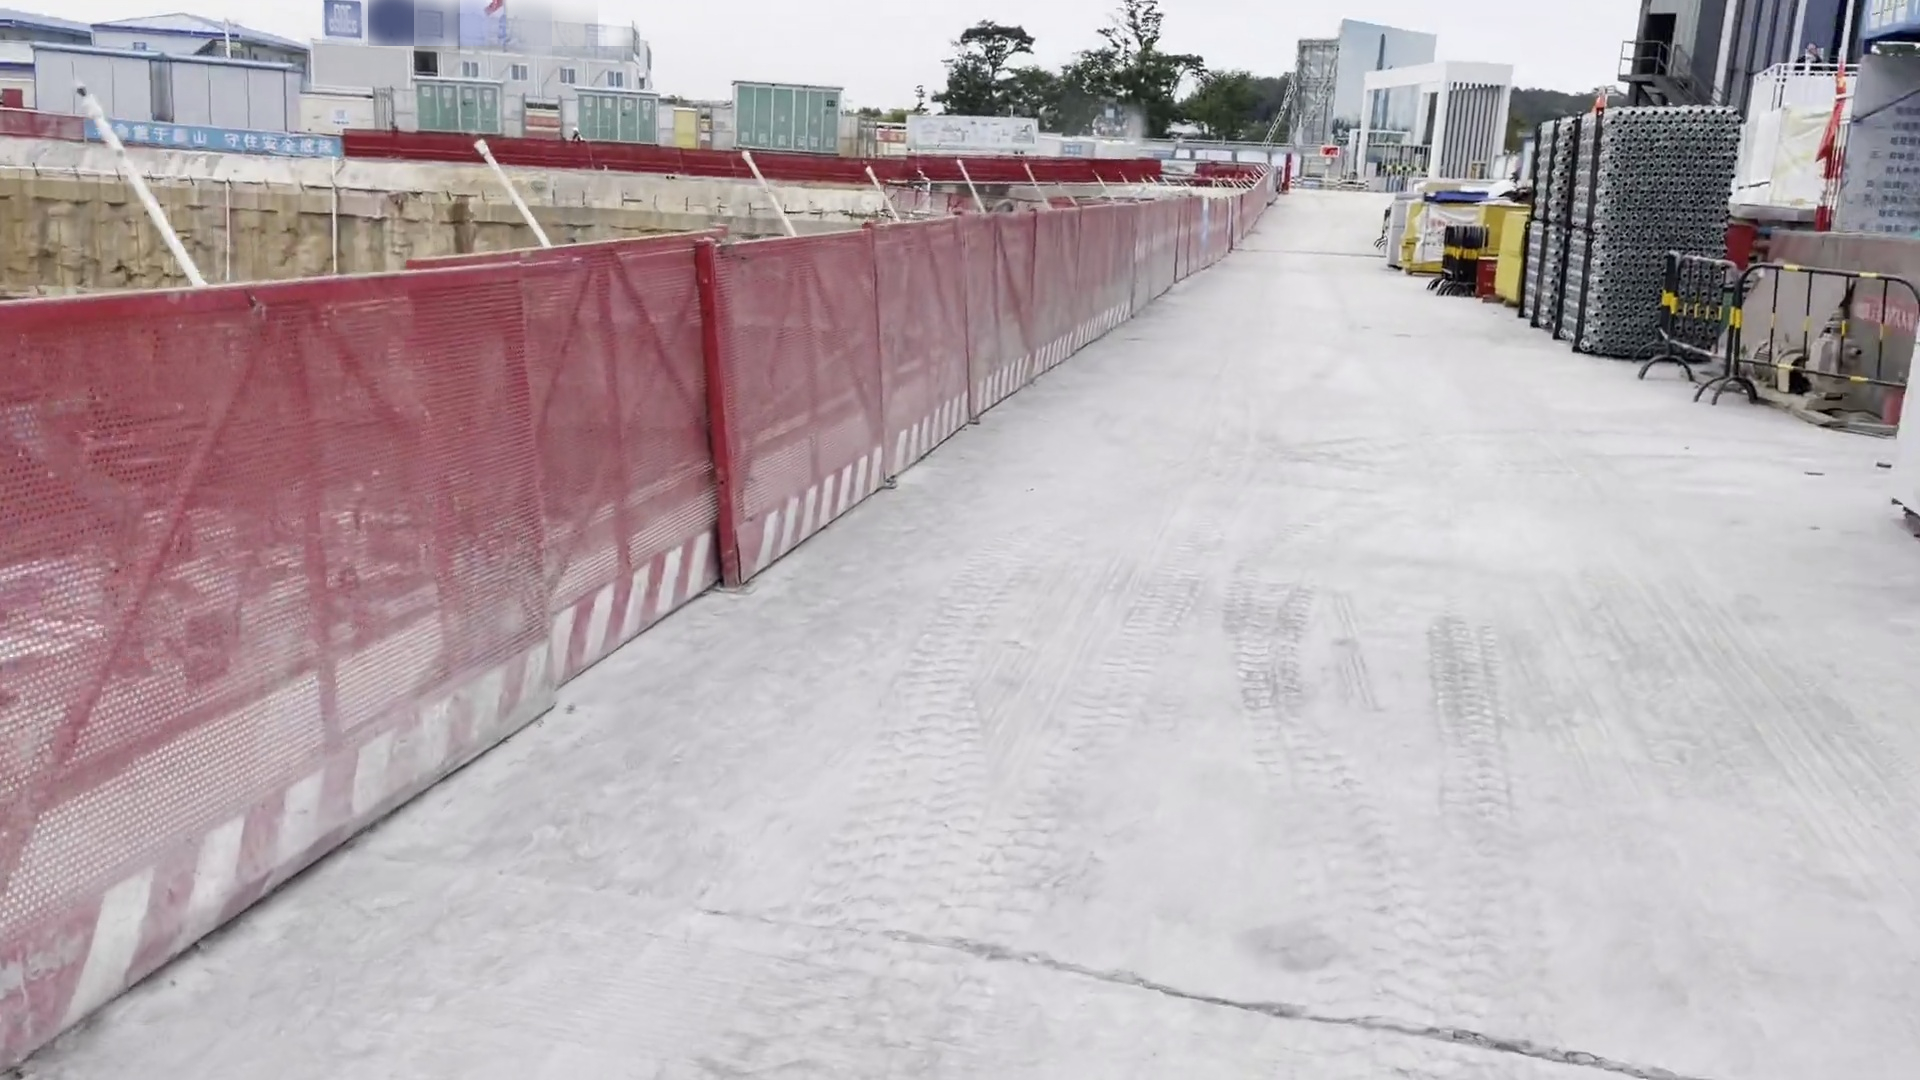fence: (17, 179, 1284, 1065), (1, 107, 1278, 190)
scaffold: (1505, 102, 1753, 369)
slogan: (98, 135, 353, 152)
